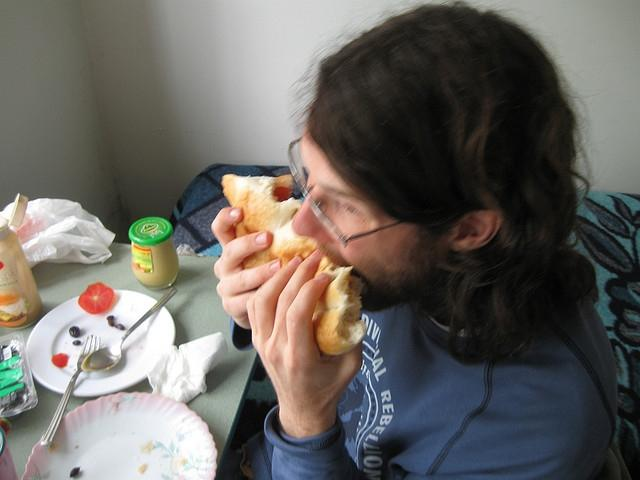tomato: (78, 282, 115, 314), (272, 186, 294, 202), (52, 353, 68, 368)
